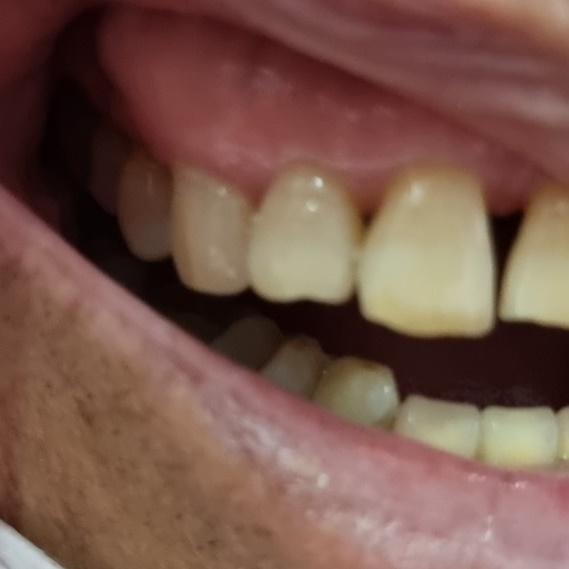Gap: (391, 176, 569, 329)
